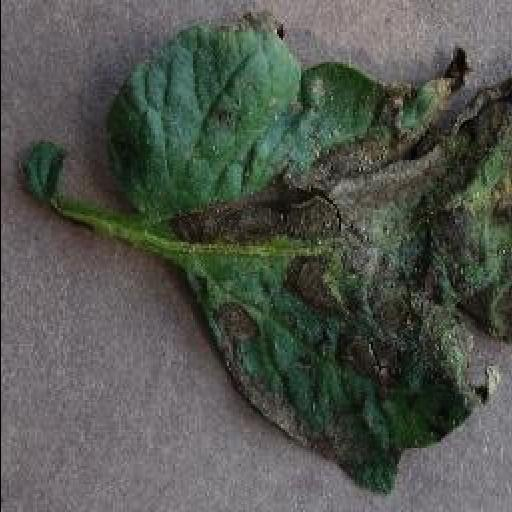disease_tomato: (96, 22, 512, 492)
